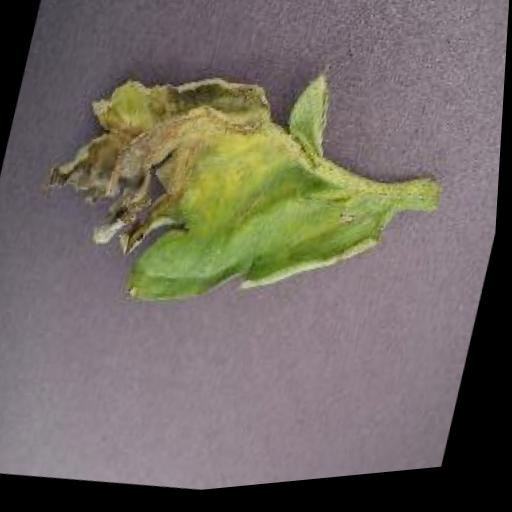Late Blight: (15, 21, 437, 355)
